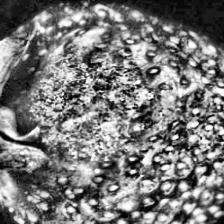Gray Mold: (19, 25, 213, 192)
